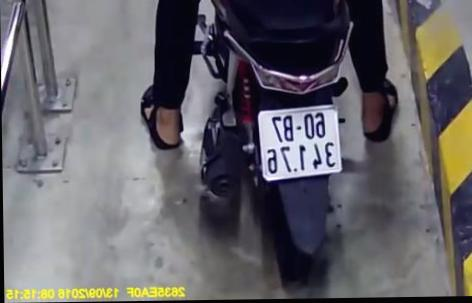License_Plate: (253, 101, 345, 183)
